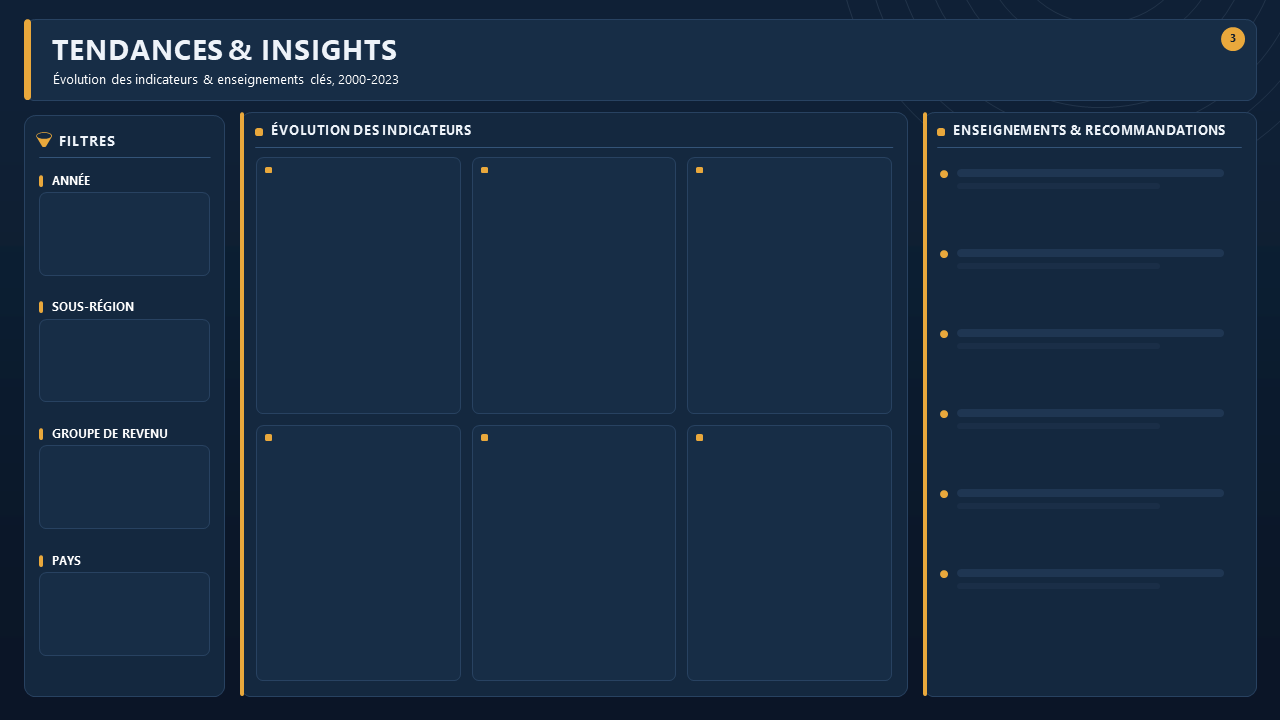

The page's visual inventory and layout, read from the dashboard file:
{"tool":"powerbi","page":{"name":"Page 3","canvas":[1280,720],"ordinal":2},"visuals":[{"type":"slicer","fields":{"Values":["FaitAfrique.Year"]},"box":[33.6,190.2,173.4,78.3],"z":0},{"type":"slicer","fields":{"Values":["FaitAfrique.SubRegion"]},"box":[33.6,311.3,173.4,85.8],"z":1000},{"type":"slicer","fields":{"Values":["FaitAfrique.IncomeGroupFR"]},"box":[33.3,448.5,172.7,86.4],"z":2000},{"type":"slicer","fields":{"Values":["FaitAfrique.Country"]},"box":[32.8,571.9,173.4,85.9],"z":3000},{"type":"image","box":[1125,10.9,75,87.5],"z":4000},{"type":"lineChart","title":"Espérance de vie (ans)","fields":{"Category":["FaitAfrique.Year"],"Y":["_Mesures.Espérance de vie"]},"box":[258.5,155.4,196.9,247.7],"z":5000},{"type":"lineChart","title":"Mortalité -5 ans","fields":{"Category":["FaitAfrique.Year"],"Y":["_Mesures.Mortalité -5 ans"]},"box":[475.4,156.9,200,246.2],"z":6000},{"type":"lineChart","title":"Accès électricité ","fields":{"Category":["FaitAfrique.Year"],"Y":["_Mesures.Accès électricité"]},"box":[689.2,156.9,200,246.2],"z":7000},{"type":"lineChart","title":"Accès à l''eau","fields":{"Category":["FaitAfrique.Year"],"Y":["_Mesures.Accès eau"]},"box":[260,424.6,200,256.9],"z":8000},{"type":"lineChart","title":"Scolarisation primaire ","fields":{"Category":["FaitAfrique.Year"],"Y":["_Mesures.Scolarisation primaire"]},"box":[476.9,424.6,200,256.9],"z":9000},{"type":"lineChart","title":"Utilisateurs Internet","fields":{"Category":["FaitAfrique.Year"],"Y":["_Mesures.Utilisateurs Internet"]},"box":[690.8,423.1,198.5,258.5],"z":10000},{"type":"textbox","box":[949.2,140,281.5,93.8],"z":11000},{"type":"textbox","box":[950.8,236.9,280,84.6],"z":12000},{"type":"textbox","box":[949.2,318.5,280,84.6],"z":13000},{"type":"textbox","box":[950.8,396.9,280,84.6],"z":14000},{"type":"textbox","box":[950.8,476.9,280,84.6],"z":15000},{"type":"textbox","box":[950.8,558.5,280,123.1],"z":16000}]}

Visuals, with their boxes in screenshot pixels (x1, y1, x2, y2), scaled from the page's 1280x720 canvas onto the 1280x720 screenshot:
slicer - FaitAfrique.Year: bbox(34, 190, 207, 268)
slicer - FaitAfrique.SubRegion: bbox(34, 311, 207, 397)
slicer - FaitAfrique.IncomeGroupFR: bbox(33, 448, 206, 535)
slicer - FaitAfrique.Country: bbox(33, 572, 206, 658)
image: bbox(1125, 11, 1200, 98)
"Espérance de vie (ans)" lineChart: bbox(258, 155, 455, 403)
"Mortalité -5 ans" lineChart: bbox(475, 157, 675, 403)
"Accès électricité " lineChart: bbox(689, 157, 889, 403)
"Accès à l''eau" lineChart: bbox(260, 425, 460, 682)
"Scolarisation primaire " lineChart: bbox(477, 425, 677, 682)
"Utilisateurs Internet" lineChart: bbox(691, 423, 889, 682)
textbox: bbox(949, 140, 1231, 234)
textbox: bbox(951, 237, 1231, 322)
textbox: bbox(949, 318, 1229, 403)
textbox: bbox(951, 397, 1231, 482)
textbox: bbox(951, 477, 1231, 562)
textbox: bbox(951, 558, 1231, 682)
